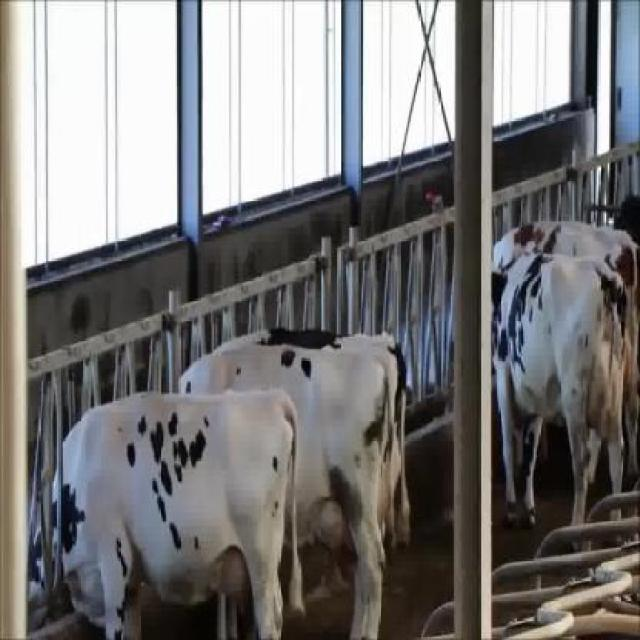Cow: (177, 328, 412, 638), (26, 390, 306, 638), (491, 255, 629, 552)
